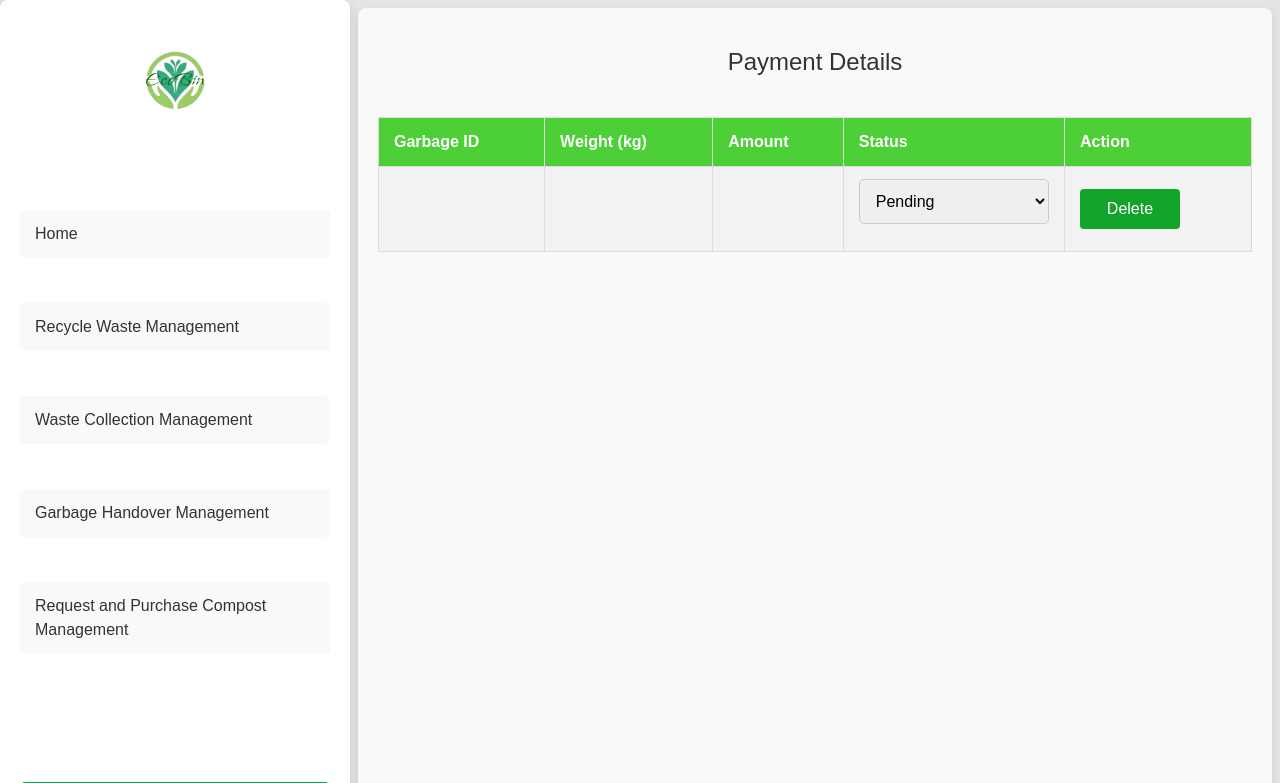
Test: Payment Component › shows error message when delete fails
Note: Change status to Completed
Select "Completed" in the dropdown at (954,201), box [859,179,1049,224]
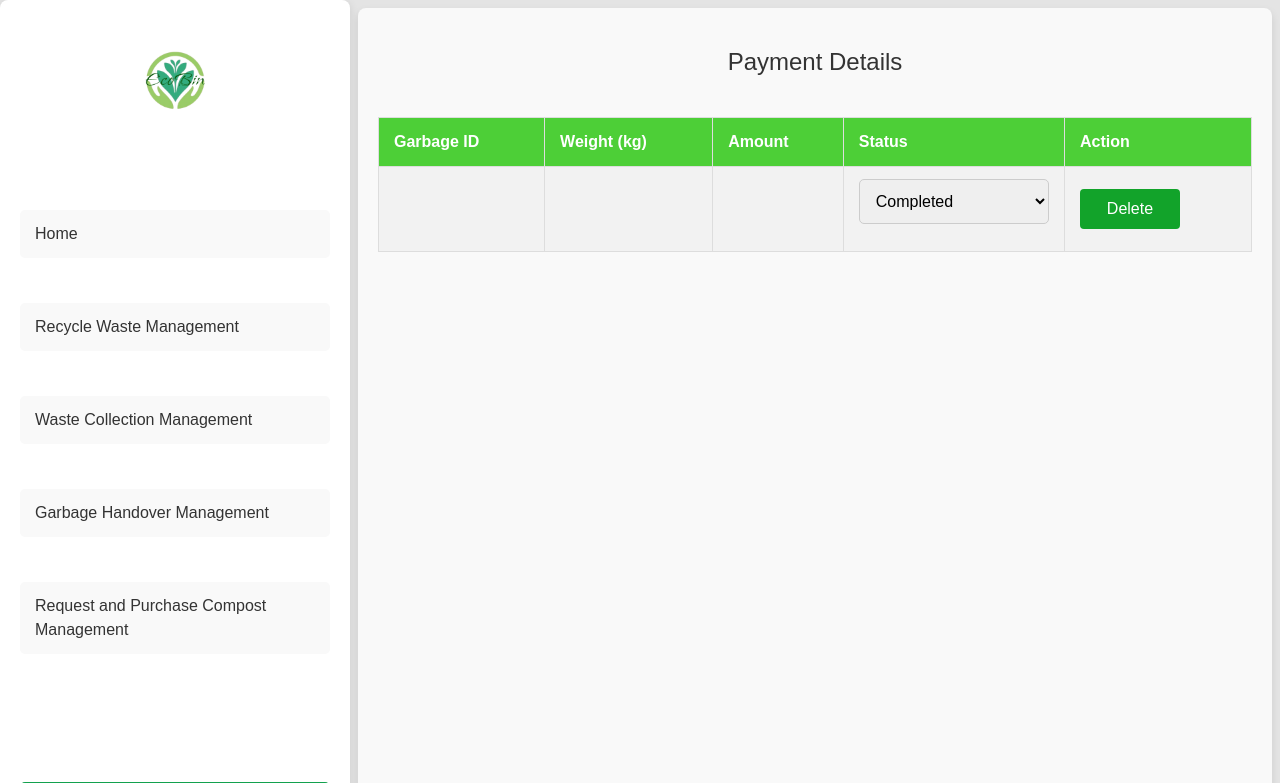
Click the button "Delete" at (1130,209), box [1080,189,1180,229]
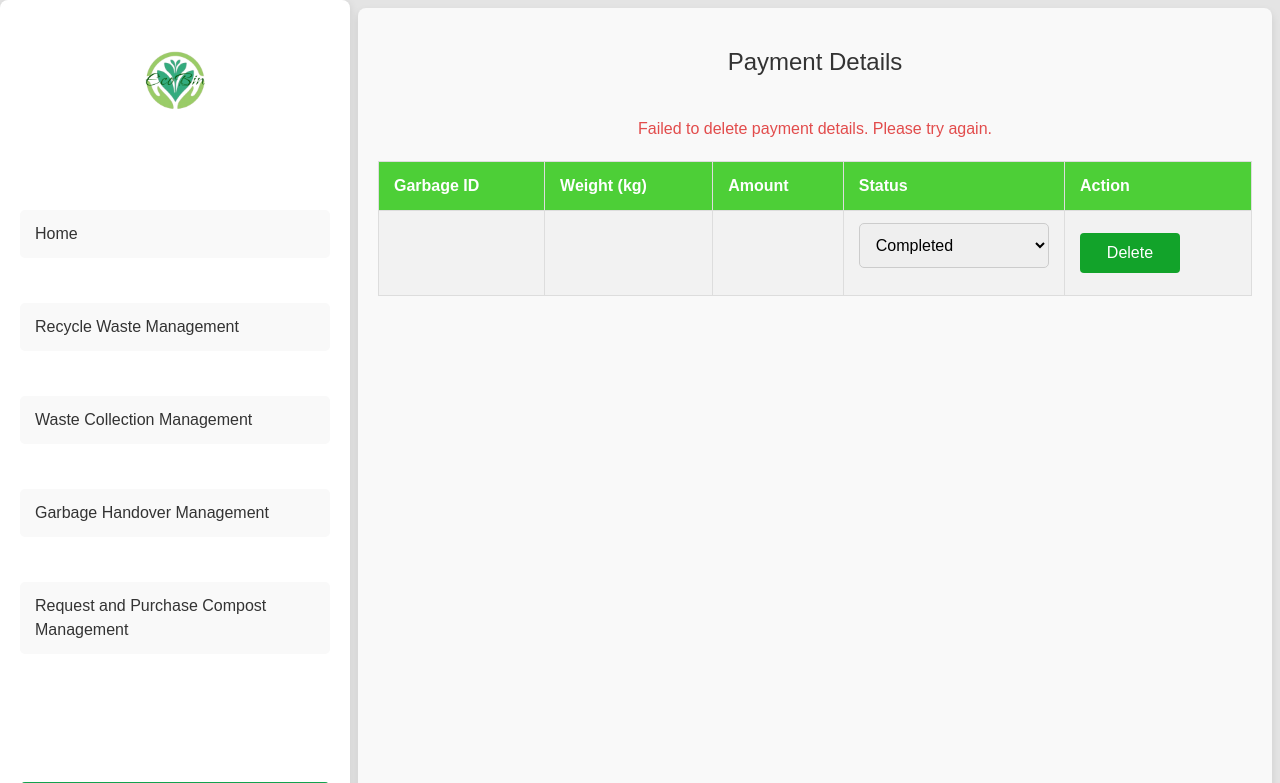
Expected: the text "Failed to delete payment details. Please try again." is shown, [638,120,992,137]
